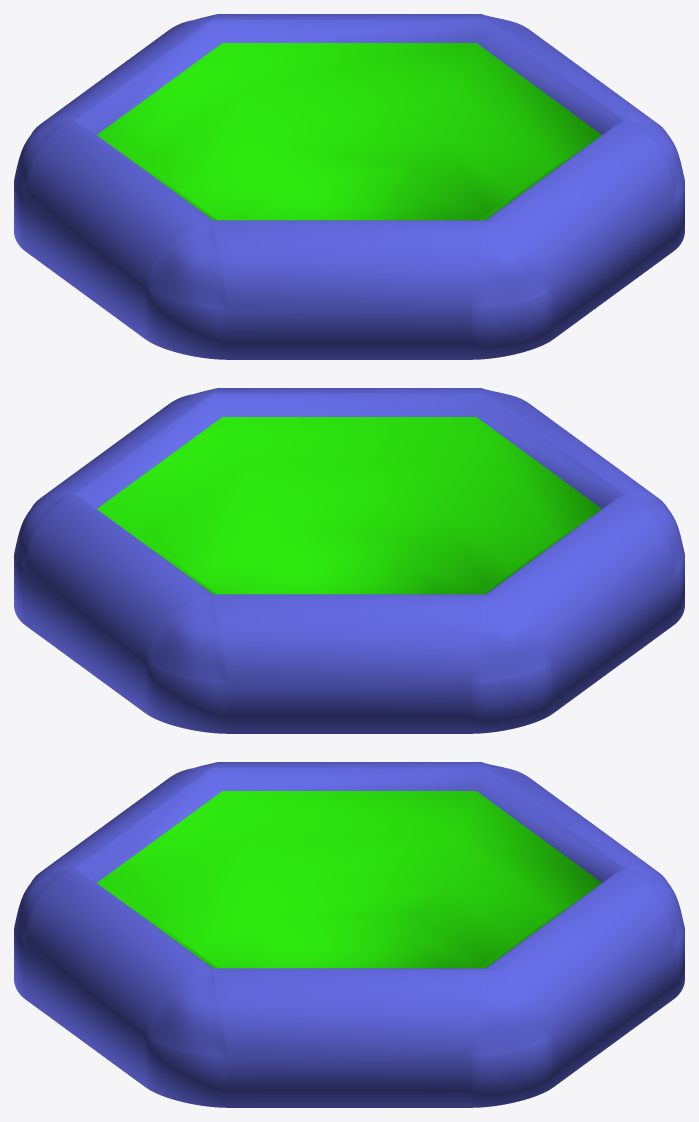
The model's file is Smooth_DigSite.fbx.
3 views of the same model, one above another, from view 1: azimuth 30°, elevation 25°; view 2: azimuth 150°, elevation 25°; view 3: azimuth 270°, elevation 25° (orthographic).
Visible parts, largest first — view 1: Smooth_DigSite; view 2: Smooth_DigSite; view 3: Smooth_DigSite.
Part boxes in pixels (bbox=[...]): Smooth_DigSite: bbox=[14, 14, 684, 359]; Smooth_DigSite: bbox=[14, 388, 684, 733]; Smooth_DigSite: bbox=[14, 762, 684, 1107].
Bounding box in the file's own units: 0.9994 × 0.2003 × 1.1.
